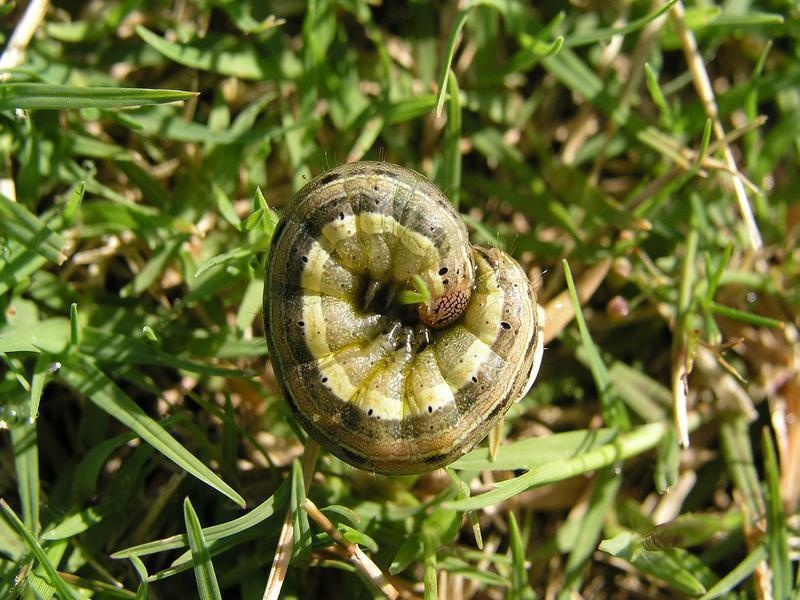Armyworms: (259, 158, 555, 474)
